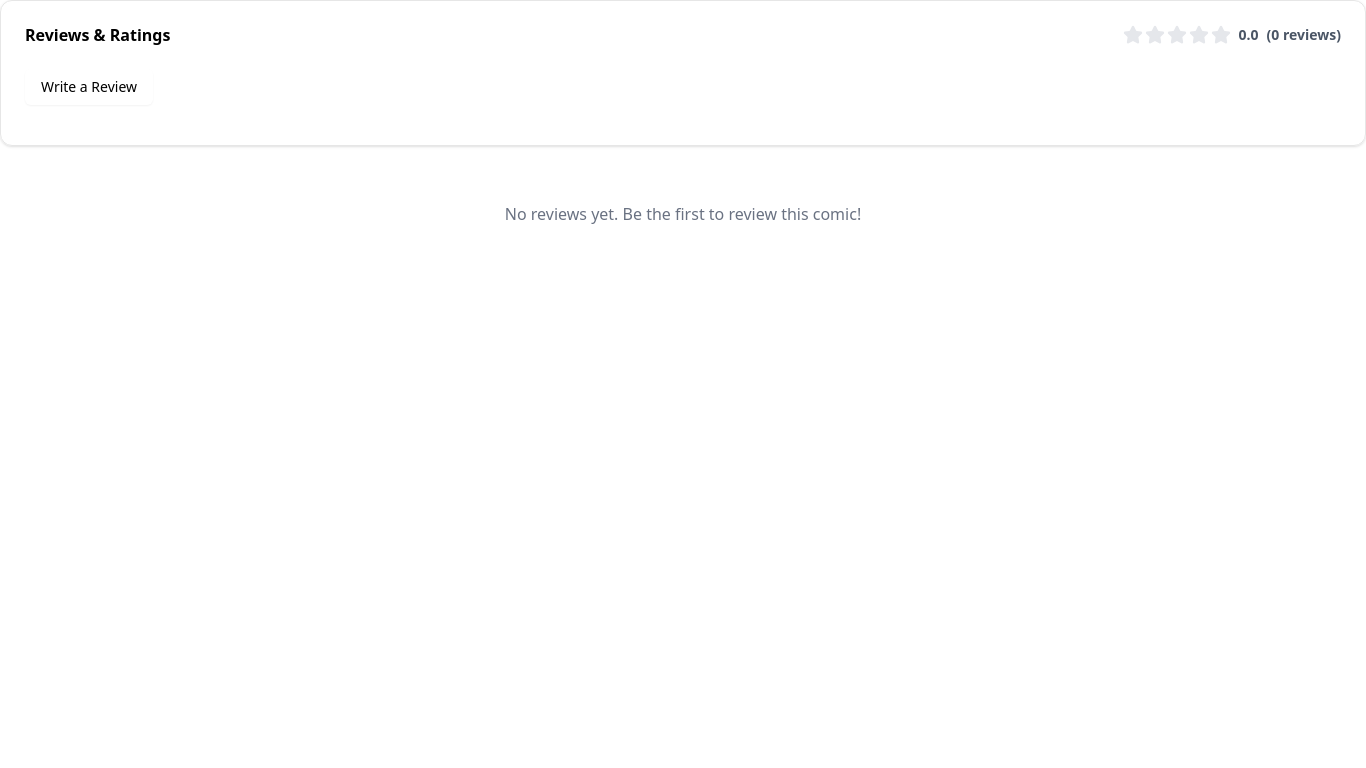
Test case: ReviewSection › opens review form when write review button is clicked
Click the button "Write a Review" at (89, 87), box [25, 69, 153, 105]
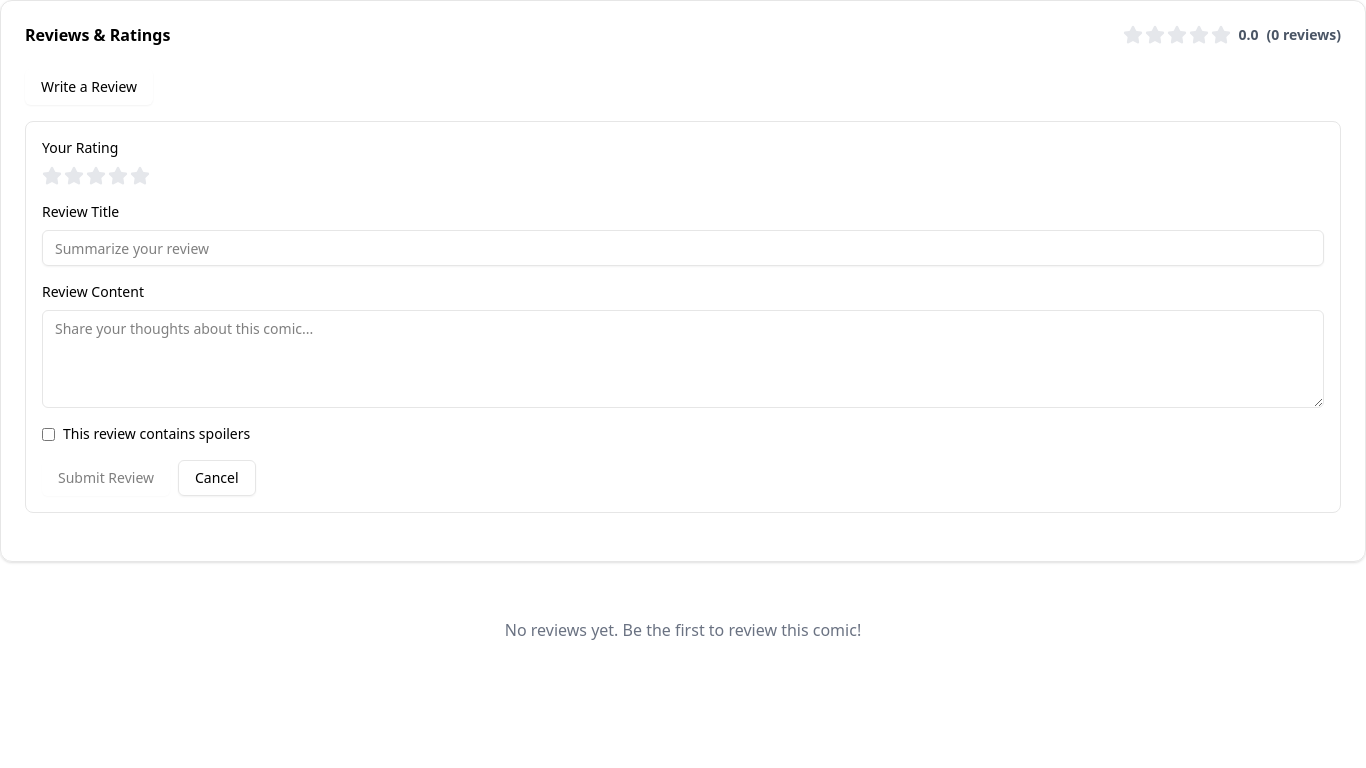
Check: the text "Your Rating" is shown, box [42, 138, 118, 157]
Check: the field with placeholder "Summarize your review" is shown, box [42, 230, 1324, 266]
Check: the text box with placeholder "Share your thoughts about this comic..." is shown, box [42, 310, 1324, 408]
